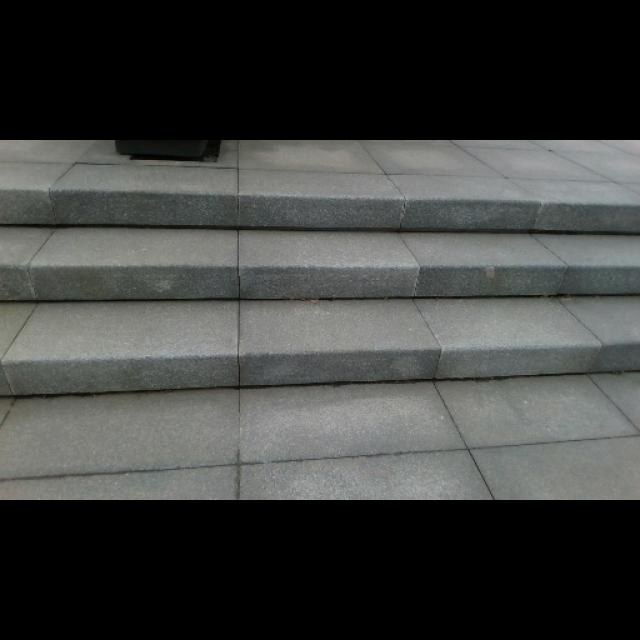Stairs: (0, 141, 639, 499)
